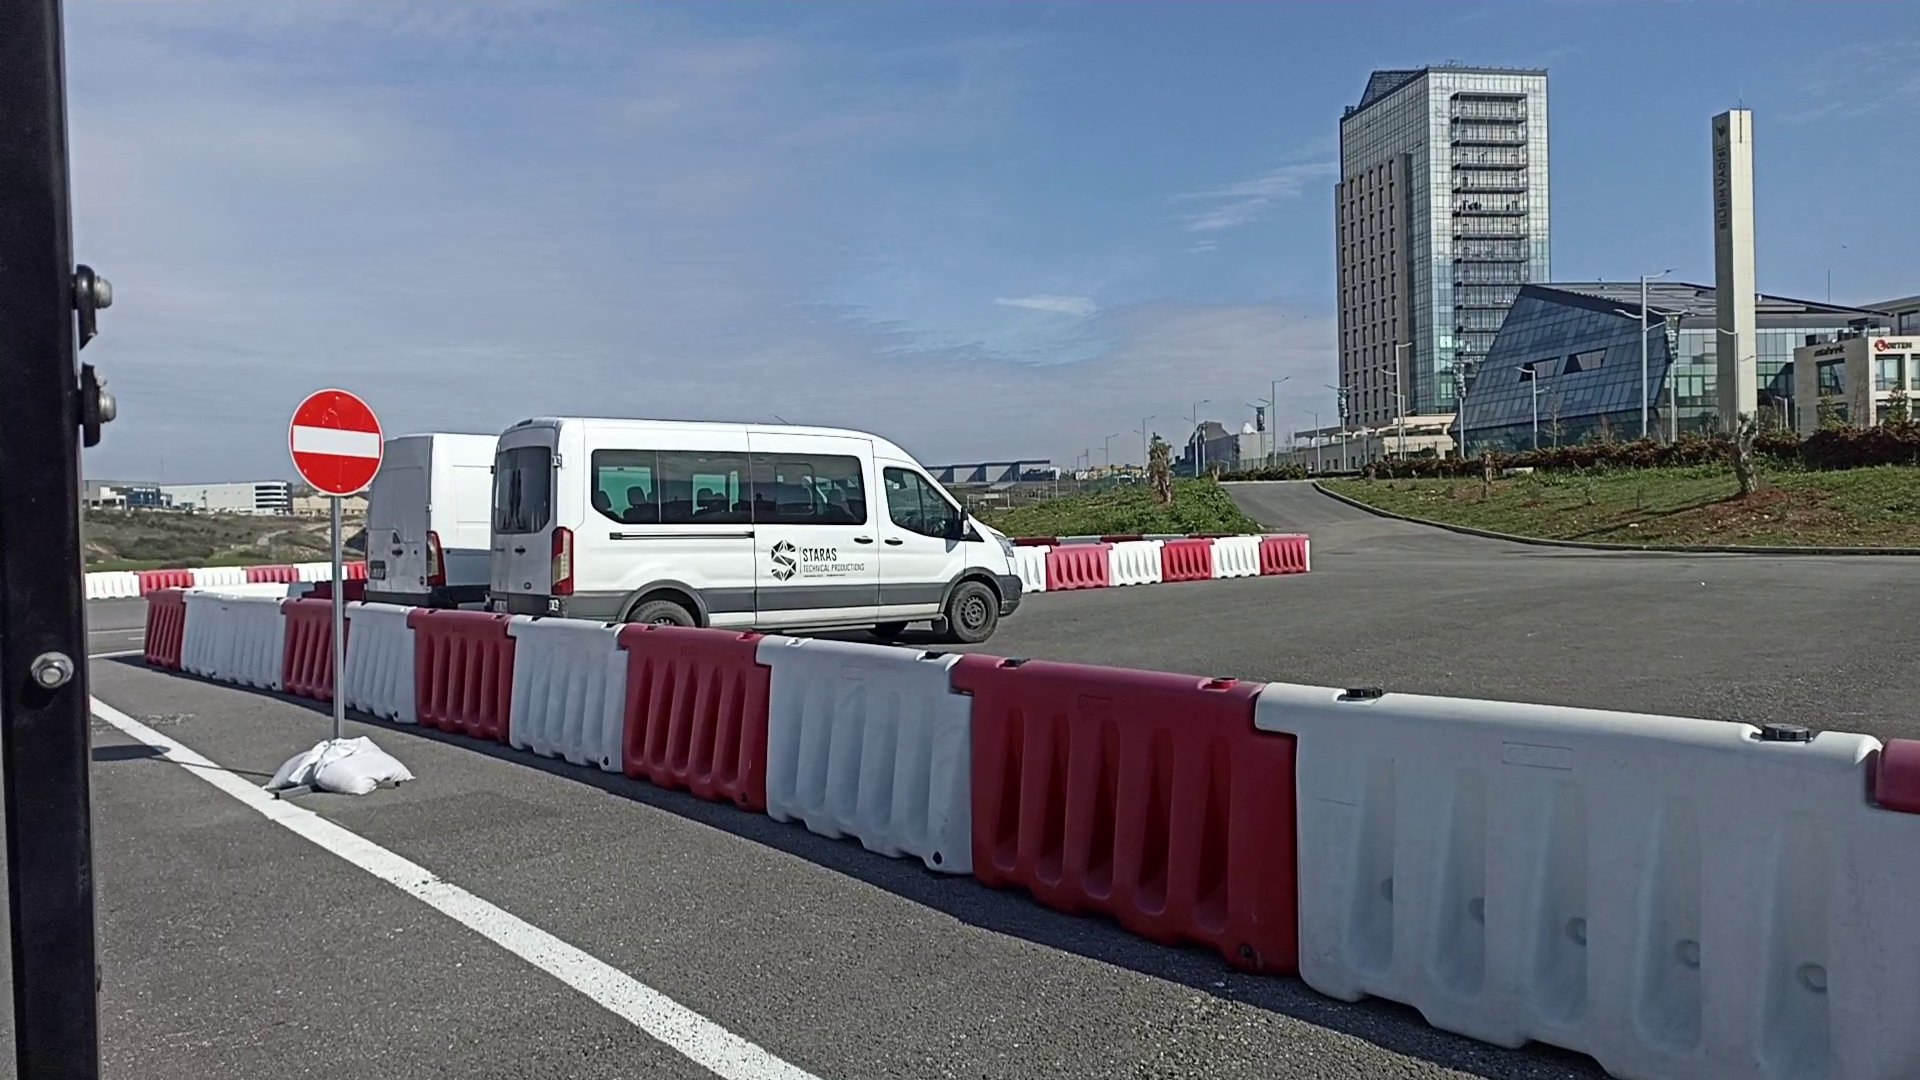noentryway: (285, 386, 384, 498)
